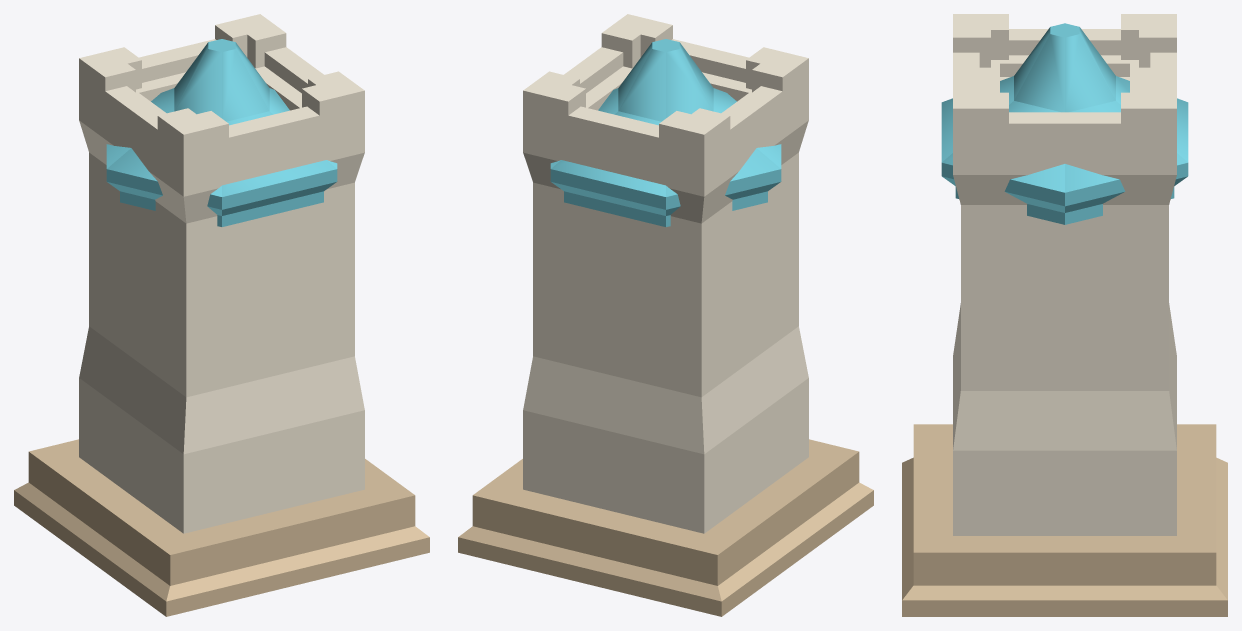
File: middle_eastern-spire.glb
3 views of the same model, side by side, from view 1: azimuth 30°, elevation 25°; view 2: azimuth 150°, elevation 25°; view 3: azimuth 270°, elevation 25° (orthographic). The views are drawn at different scales.
Visible parts, largest first — view 1: body; view 2: body; view 3: body.
Boxes of the visible parts, x1,y1,x2,y2 form: body: (14,14,429,616); body: (458,14,873,616); body: (902,14,1227,616).
Size of the model in its own units: 0.8 by 1.4 by 0.8.
